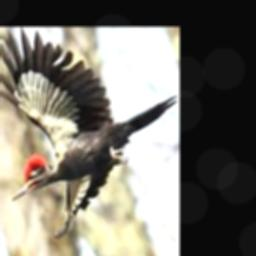Woodpecker: (0, 26, 178, 236)
